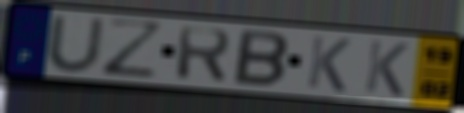B: (230, 27, 292, 90)
K: (361, 38, 412, 99), (304, 33, 354, 95)
R: (173, 25, 234, 85)
U: (44, 14, 108, 75)
Z: (99, 15, 168, 80)
